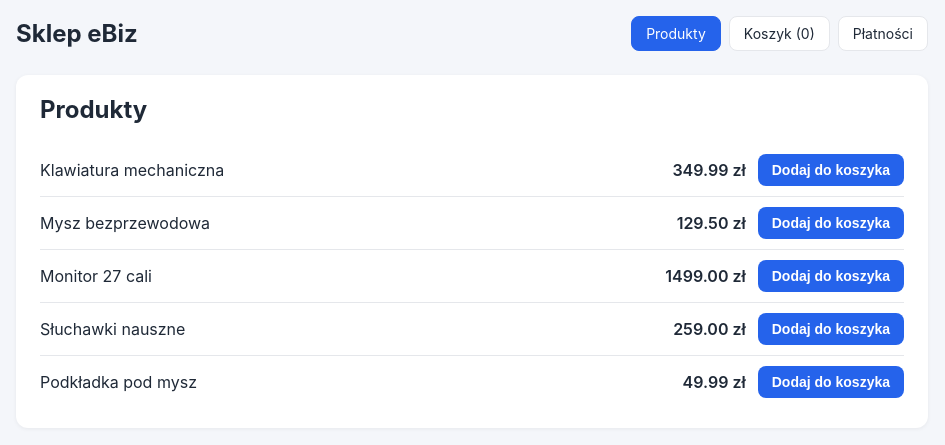
Test case: 16 - Kwota płatności prefill z koszyka › formularz uzupełnia kwotę sumą koszyka
Click the button "Dodaj do koszyka" in the row of "Monitor 27 cali": (831, 276) [758,260,904,292]
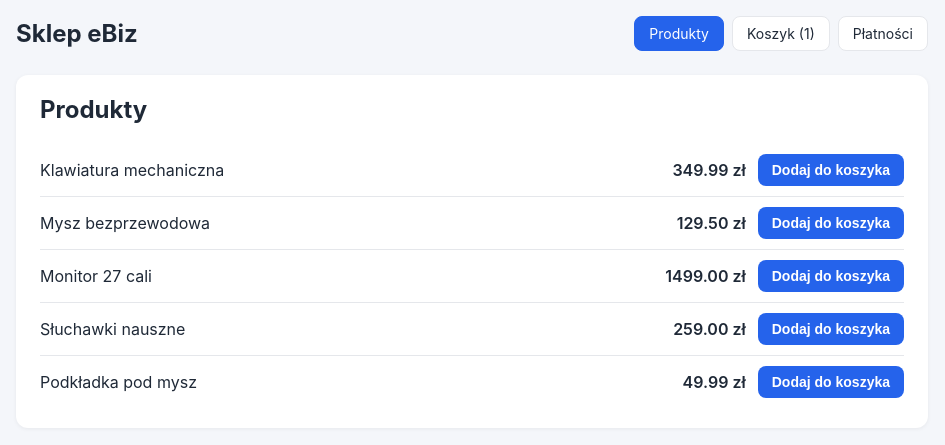
Click the link "Płatności": (883, 34) [838,16,928,51]
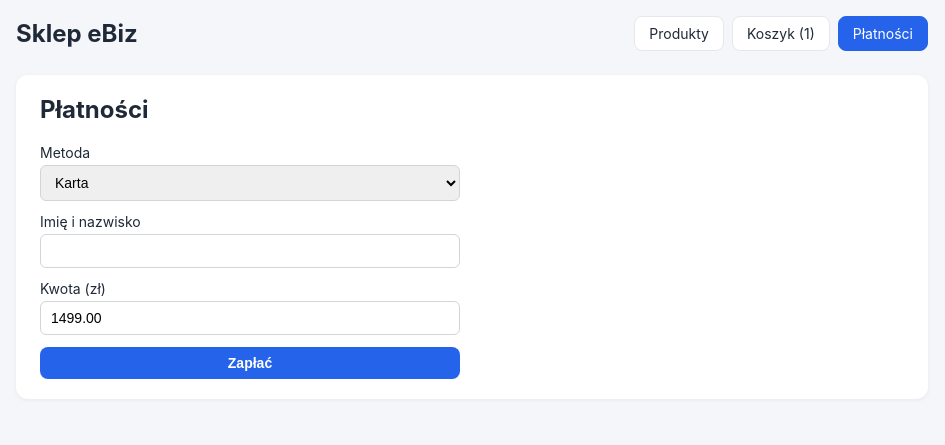
Expected: the number field labelled "Kwota (zł)" holds "1499.00", [40,301,460,335]
